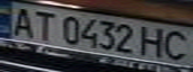0: (57, 14, 81, 47)
2: (115, 20, 139, 56)
3: (97, 19, 118, 52)
4: (78, 16, 100, 51)
A: (6, 4, 39, 38)
C: (160, 28, 193, 62)
H: (136, 25, 169, 60)
T: (27, 9, 60, 43)
